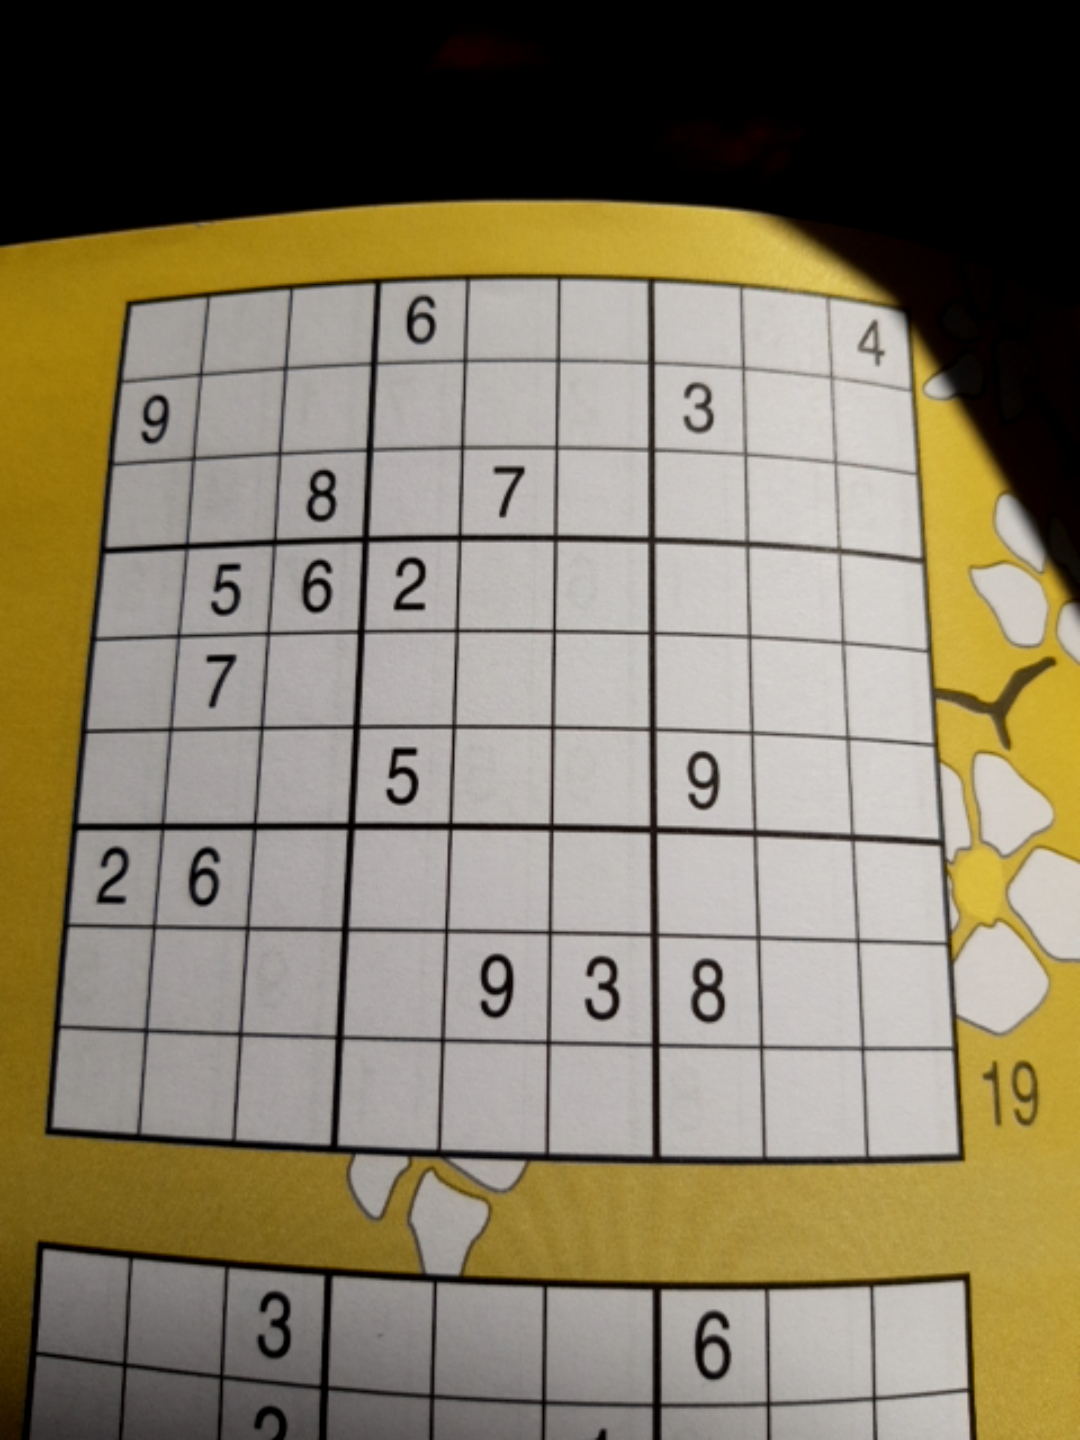sudoku: (27, 270, 966, 1168)
